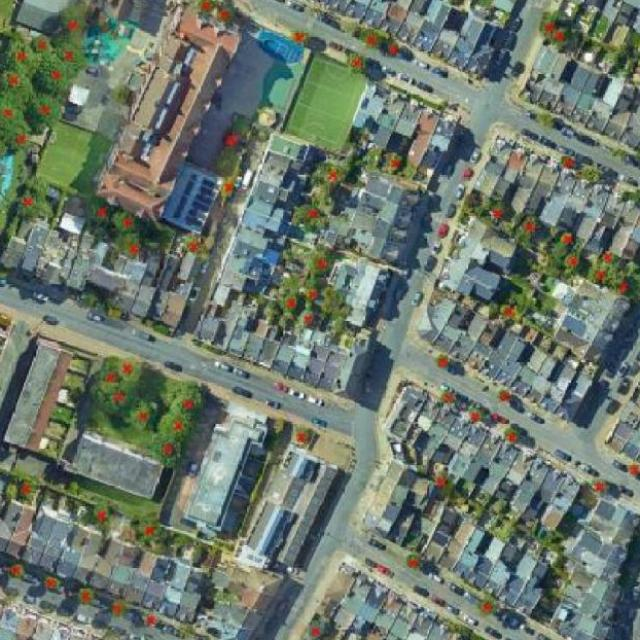tree: (0, 26, 46, 84), (163, 373, 216, 423), (21, 86, 67, 134), (282, 198, 335, 236), (87, 380, 145, 414), (54, 0, 95, 48), (152, 408, 205, 444), (148, 431, 192, 474), (108, 230, 153, 270), (120, 395, 162, 437), (90, 350, 126, 397), (302, 241, 342, 280), (37, 56, 78, 94), (131, 509, 172, 546), (11, 182, 48, 223), (52, 40, 96, 74), (109, 202, 149, 238), (86, 491, 122, 530), (510, 209, 546, 248), (80, 194, 120, 228), (110, 353, 148, 388), (609, 262, 640, 304), (0, 88, 30, 130), (177, 228, 213, 262), (4, 120, 36, 154), (396, 546, 432, 576), (315, 160, 354, 187), (484, 194, 516, 226), (288, 418, 318, 452), (473, 588, 502, 622), (582, 261, 618, 288), (0, 69, 35, 96), (16, 472, 44, 504), (296, 278, 328, 306), (29, 28, 61, 56), (295, 302, 322, 334), (71, 582, 101, 610), (300, 616, 334, 640), (217, 126, 250, 150), (276, 290, 302, 320), (536, 7, 561, 37), (3, 557, 35, 579), (355, 26, 383, 51), (582, 474, 612, 497), (106, 596, 133, 621), (430, 465, 455, 492), (499, 423, 527, 447), (490, 382, 515, 408), (215, 0, 241, 25), (497, 297, 524, 321), (41, 572, 68, 595), (563, 244, 583, 274), (462, 402, 488, 425), (435, 387, 461, 410), (217, 174, 239, 201), (385, 149, 407, 176), (554, 24, 575, 52), (547, 236, 572, 258), (431, 351, 456, 372), (345, 51, 366, 76), (287, 28, 311, 48), (195, 0, 220, 19), (598, 245, 619, 267), (556, 153, 579, 173), (624, 458, 640, 480), (388, 37, 404, 58), (560, 225, 577, 240), (0, 120, 12, 141), (144, 611, 157, 630)
